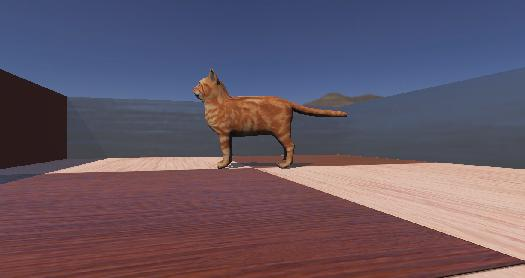Cat: (177, 62, 357, 191)
